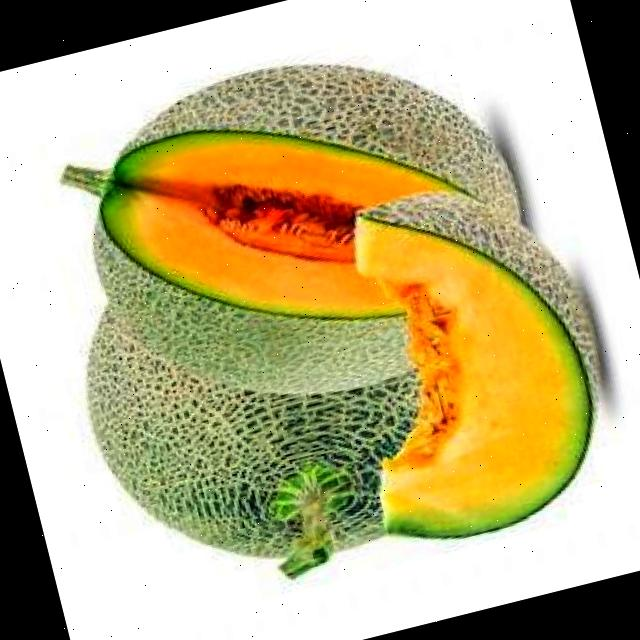Hami Melon: (56, 15, 558, 442), (65, 234, 455, 600), (308, 157, 640, 556)
